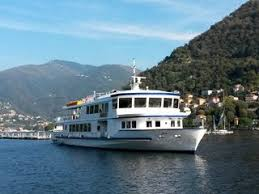boat: (49, 56, 208, 152)
